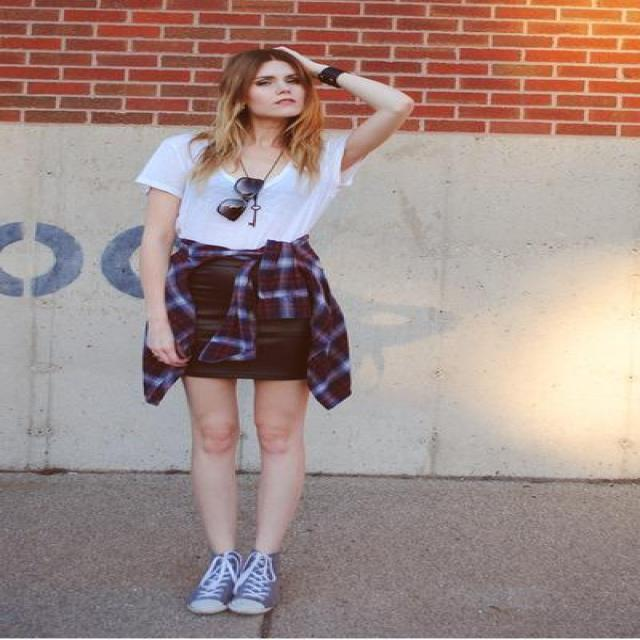jacket: (142, 234, 350, 408)
shirt: (134, 134, 344, 248)
shoe: (190, 548, 274, 612)
shorts: (174, 245, 314, 384)
sunglass: (220, 177, 262, 217)
